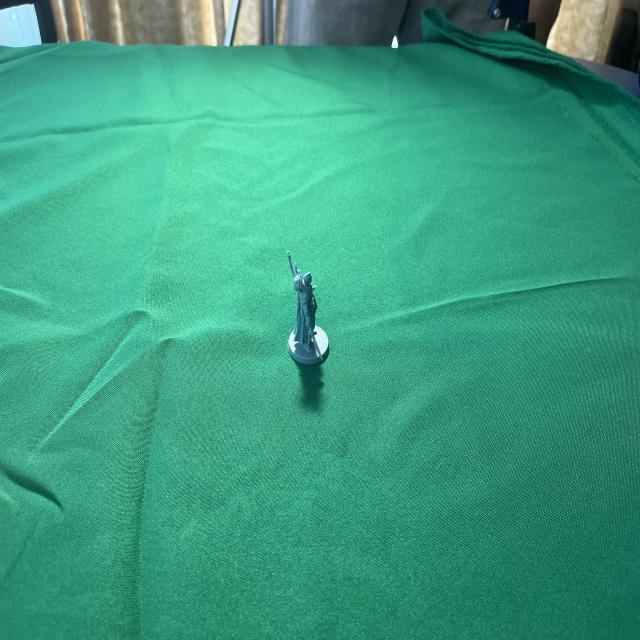isis_follower: (274, 234, 335, 369)
